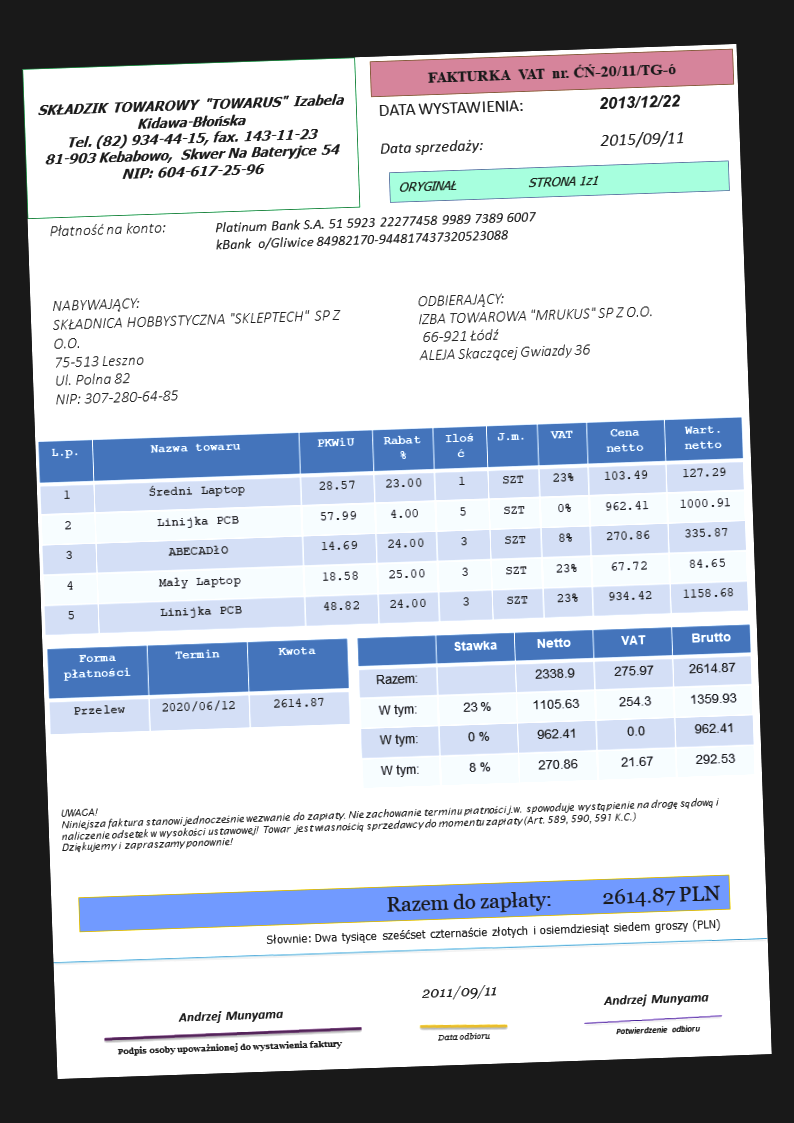Table: (36, 416, 750, 637), (355, 621, 758, 793), (45, 637, 352, 736)
TextBox: (58, 782, 725, 855), (48, 285, 347, 409), (35, 88, 352, 187), (415, 283, 656, 367), (263, 914, 723, 952), (211, 208, 539, 255), (384, 878, 722, 919), (423, 58, 677, 87), (396, 169, 601, 196), (114, 1037, 344, 1058), (375, 93, 523, 121), (47, 217, 167, 240), (377, 134, 485, 159), (173, 1005, 289, 1026), (597, 126, 686, 151), (601, 990, 711, 1010), (596, 90, 683, 114), (417, 981, 499, 1002), (612, 1021, 701, 1038), (434, 1028, 493, 1046)
